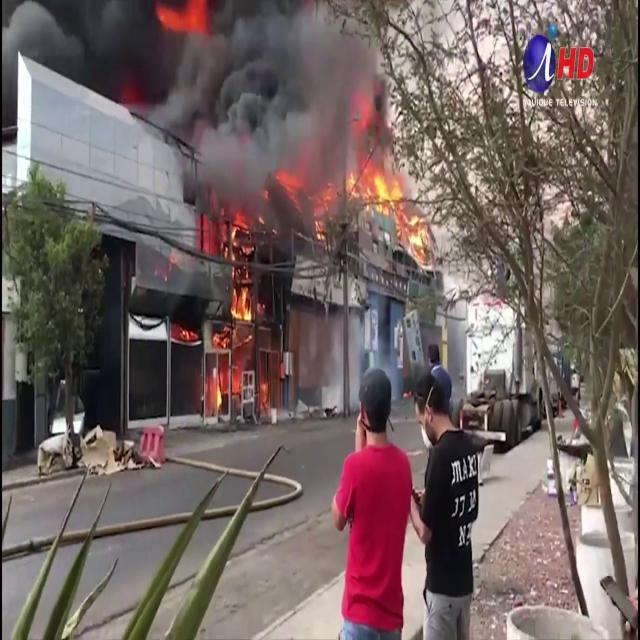Fire: (344, 160, 430, 256), (219, 209, 257, 329)
Smoke: (12, 1, 394, 147)
